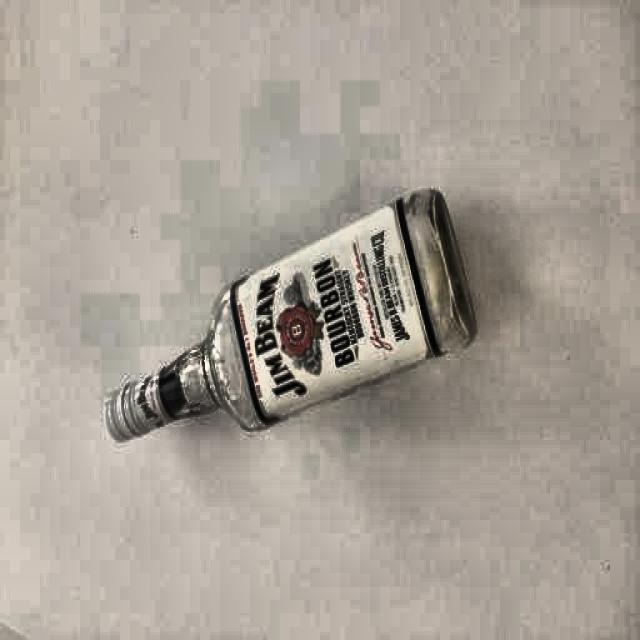glass: (100, 187, 479, 448)
